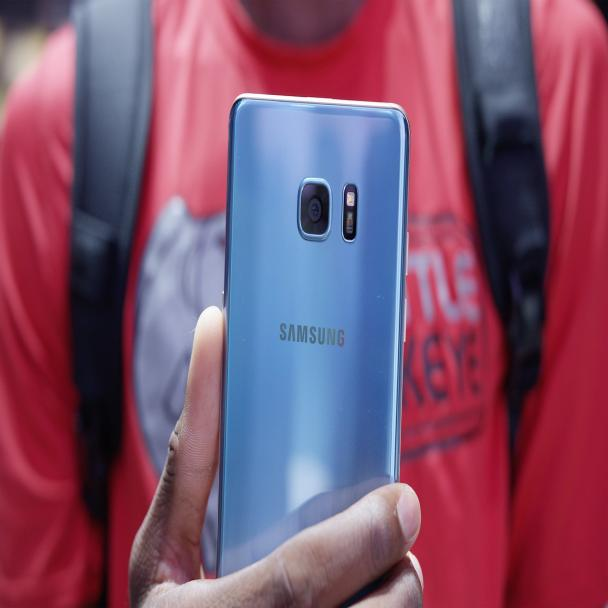Handphone: (222, 74, 404, 608)
